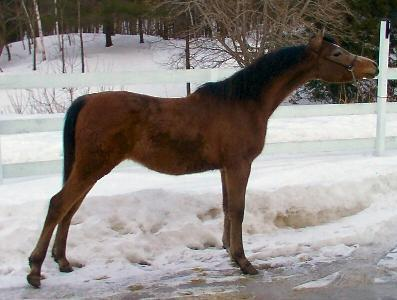horse: (26, 29, 378, 288)
